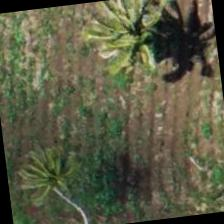Kelapa_Sawit: (94, 0, 193, 74)
